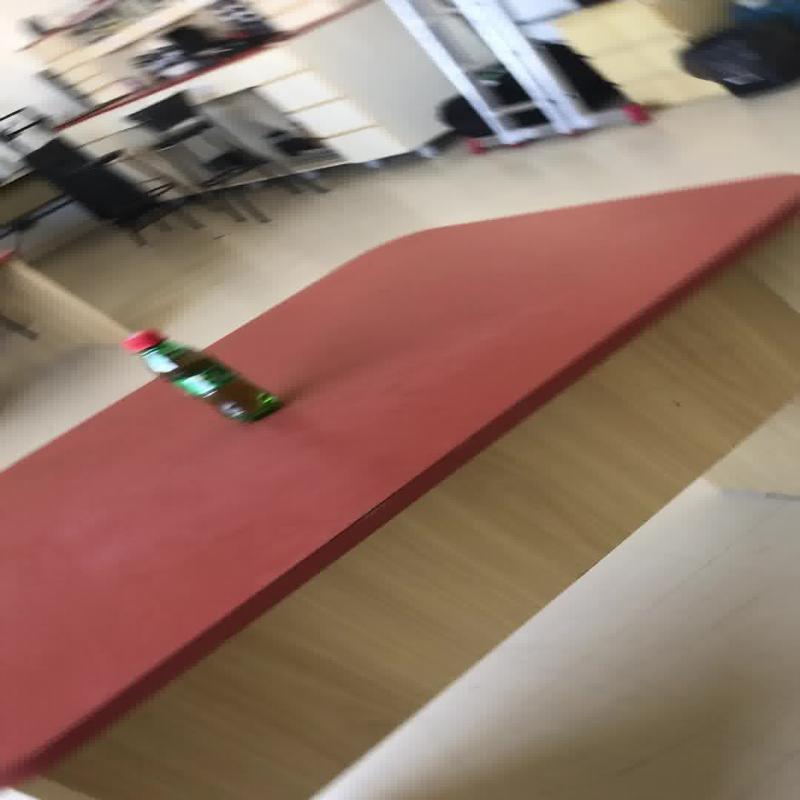guarana: (119, 326, 284, 424)
